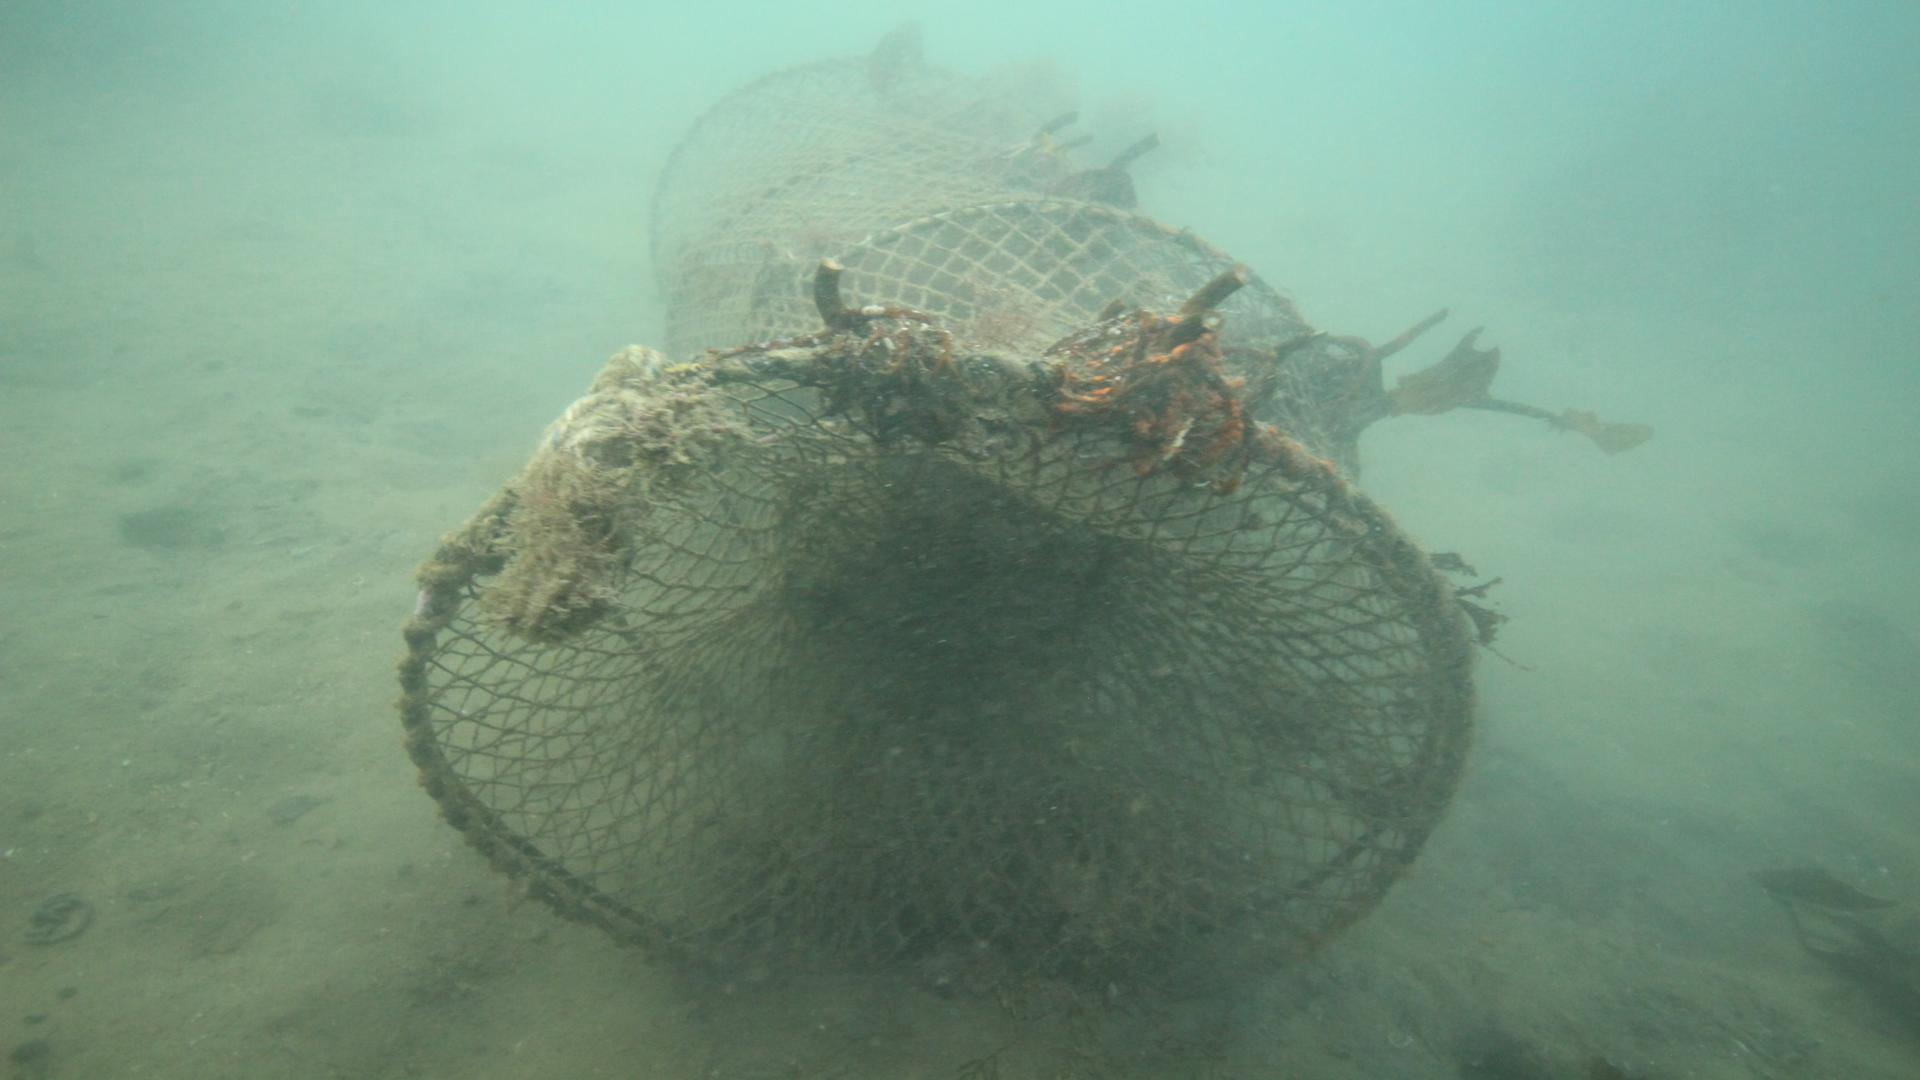spring fish trap: (394, 55, 1478, 1015)
